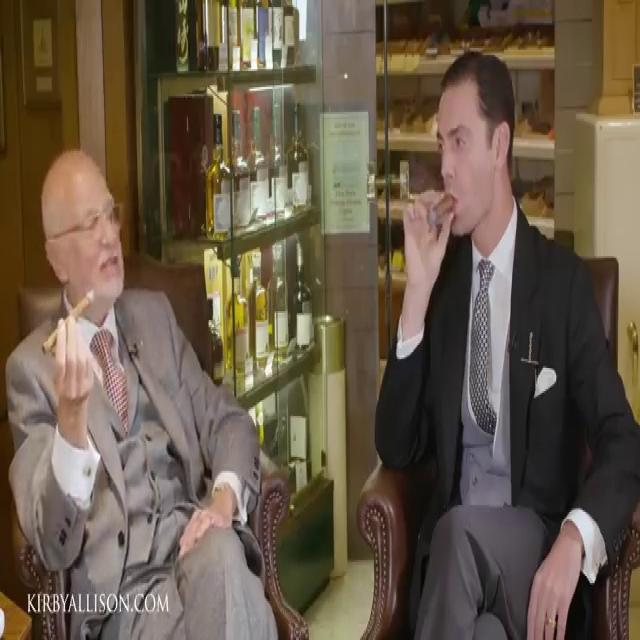Smooking: (38, 273, 98, 361), (425, 183, 457, 239)
